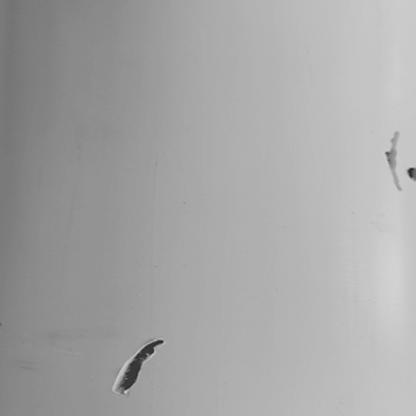kongdong: (108, 332, 169, 397), (380, 120, 413, 196)
